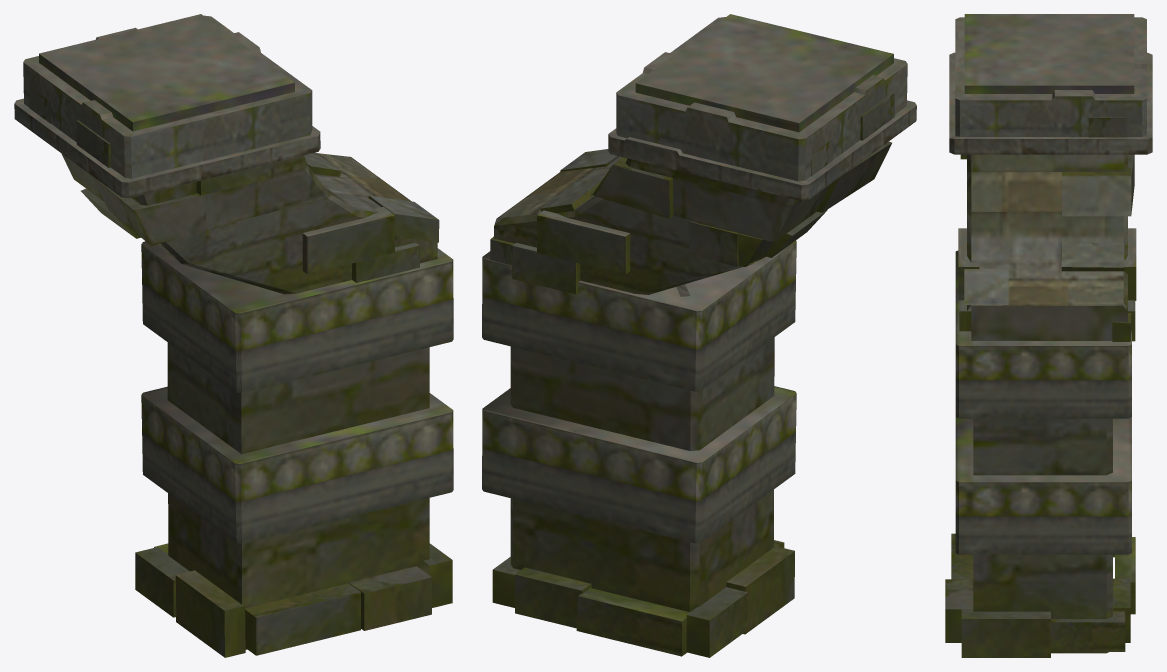
Rendered from S2_Build_XSC074.FBX.
3 renders of one model, left to right at view 1: azimuth 30°, elevation 25°; view 2: azimuth 150°, elevation 25°; view 3: azimuth 270°, elevation 25°, orthographic. The views are drawn at different scales.
Visible parts, largest first — view 1: S2_Build_XSC074; view 2: S2_Build_XSC074; view 3: S2_Build_XSC074.
Boxes of the visible parts, x1,y1,x2,y2 form: S2_Build_XSC074: (14, 14, 453, 657); S2_Build_XSC074: (482, 14, 916, 657); S2_Build_XSC074: (945, 14, 1152, 657).
Size of the model in its own units: 118 by 188 by 69.69.
